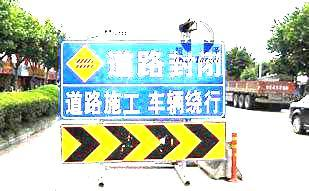sign: (58, 40, 224, 162)
